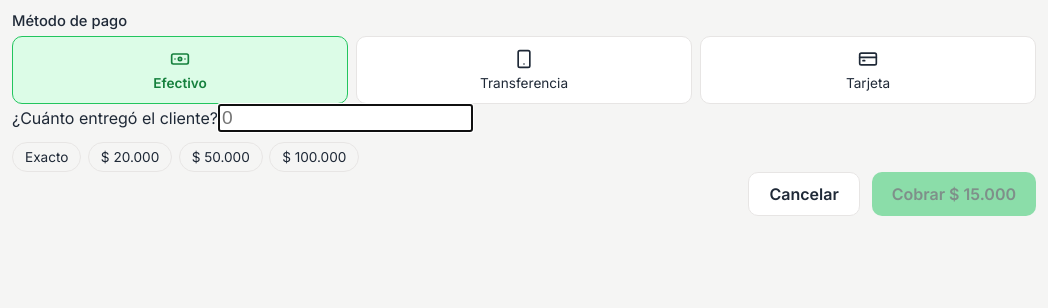
FormularioPago › el efectivo recibido no deja escribir más de $10.000.000
// Al llegar al tope ya no deja escribir otra cifra.
Type "100000001" into the field labelled "¿Cuánto entregó el cliente?".
click(345, 118); type("100000001")  # box [218,104,473,132]
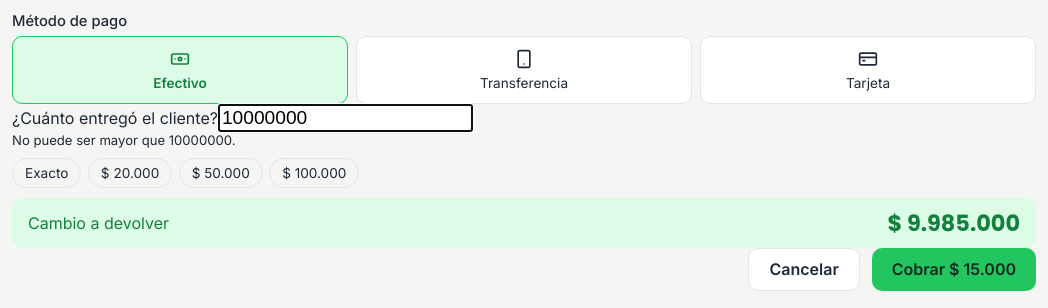
Now the field labelled "¿Cuánto entregó el cliente?" holds "10000000", box [218,104,473,132]
